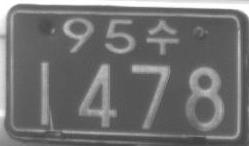1: (28, 62, 63, 125)
4: (78, 63, 118, 127)
5: (104, 18, 137, 54)
7: (131, 62, 170, 129)
8: (184, 65, 226, 133)
9: (62, 16, 95, 53)
수: (146, 19, 179, 55)
